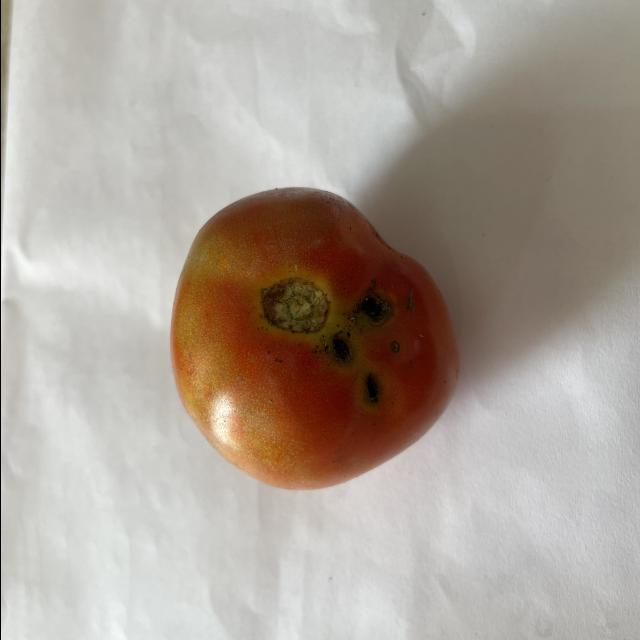fruitworm_bore: (320, 286, 408, 418)
